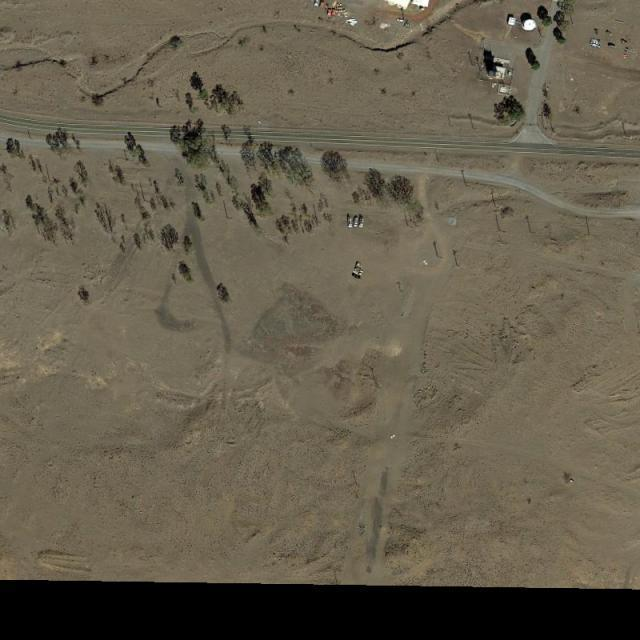vehicle: (606, 28, 614, 38), (620, 38, 629, 46), (359, 216, 364, 230), (607, 42, 618, 48), (354, 217, 359, 229), (348, 217, 353, 228), (314, 1, 320, 7)
